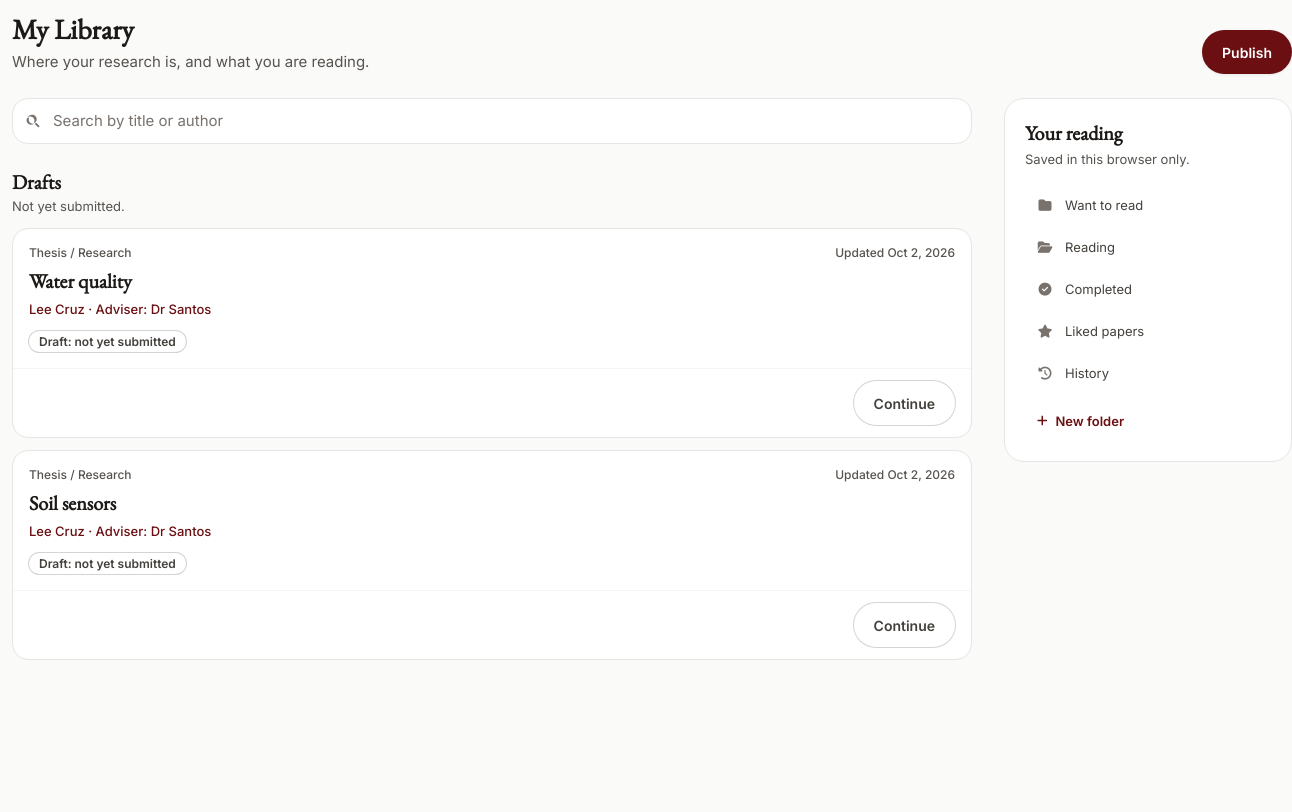
Test: My Library: an author's research › searches titles and authors, and says when nothing matches
Expected: the link "Water quality" is shown, [29,268,132,294]
Type "soil" into the search field named "Search your research". click: (492, 121)
box: [12,98,972,144]
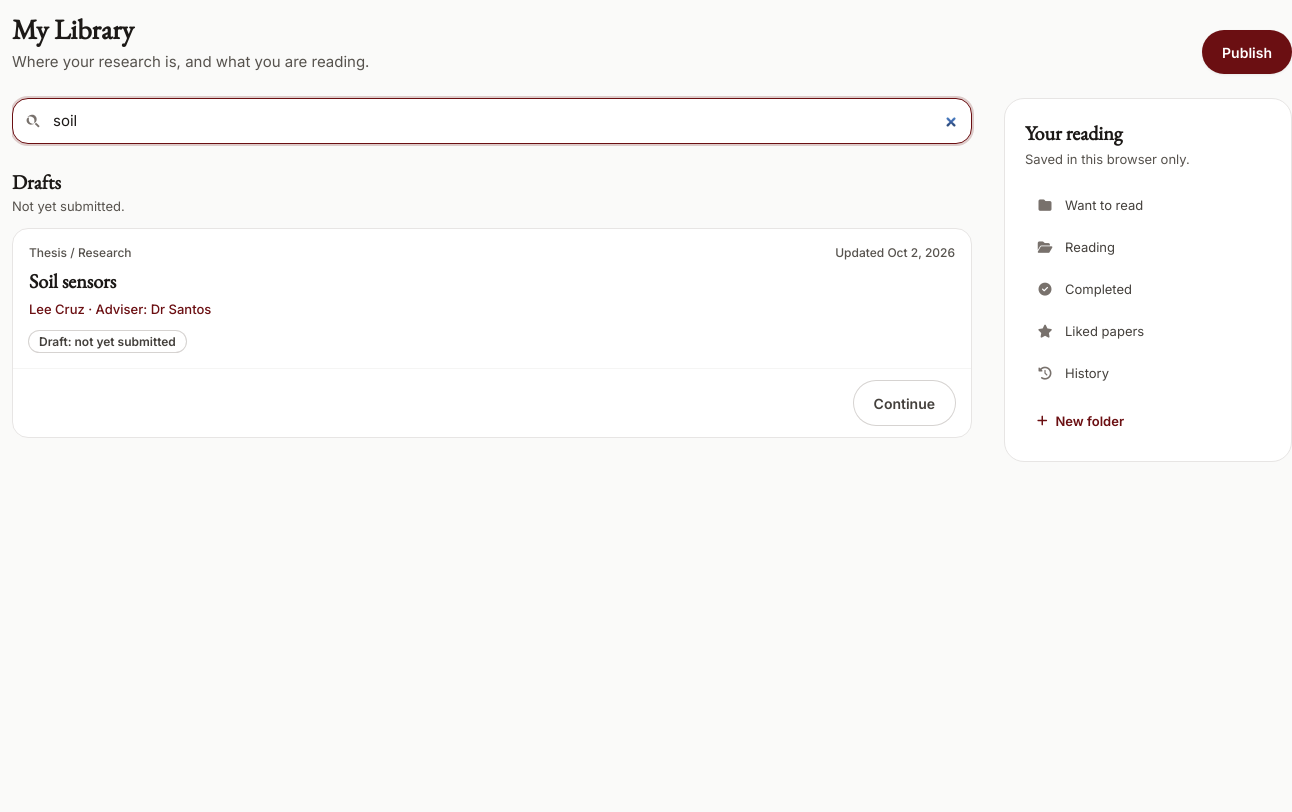
Expected: the link "Soil sensors" is shown, [29,268,116,294]
Expected: the link "Water quality" is gone
Type "zzz" into the search field named "Search your research". click: (492, 121)
box: [12,98,972,144]
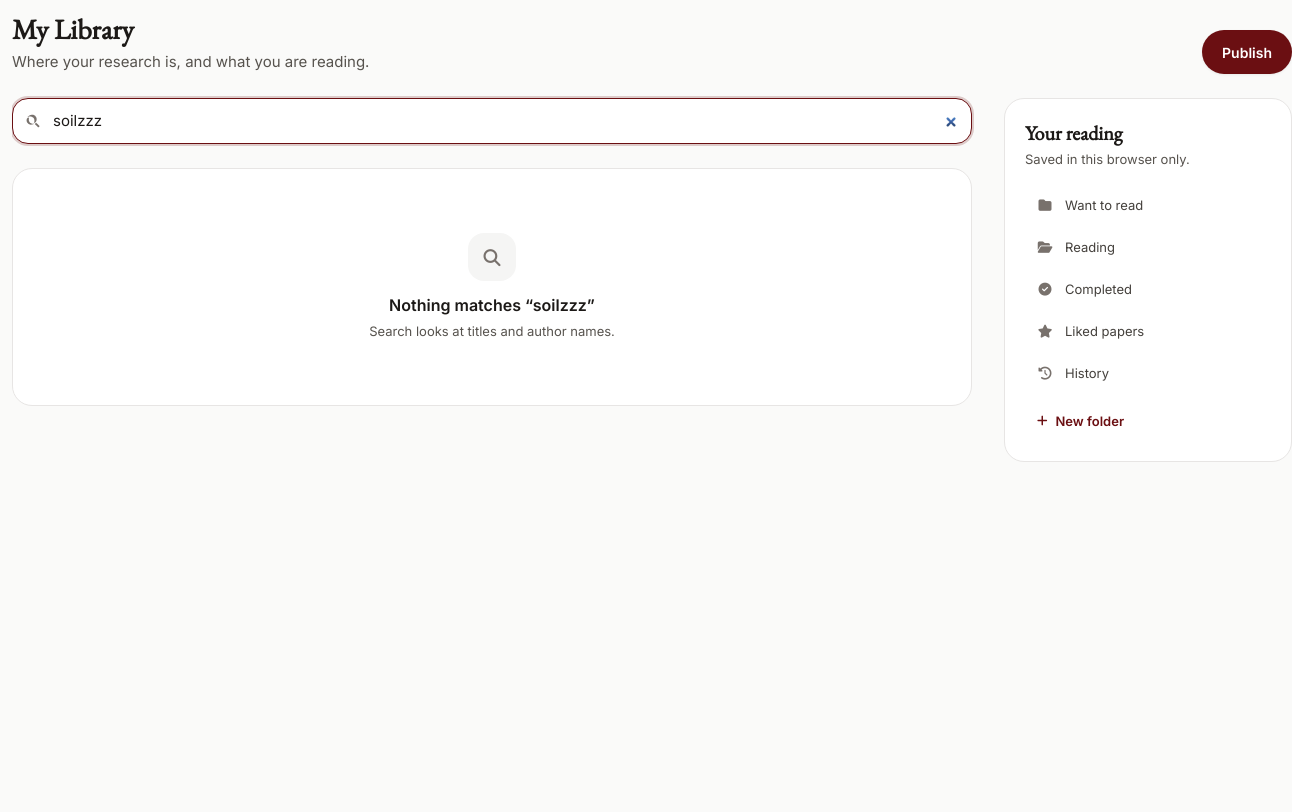
Expected: the heading "Nothing matches “soilzzz”" is shown, [389,293,595,317]
